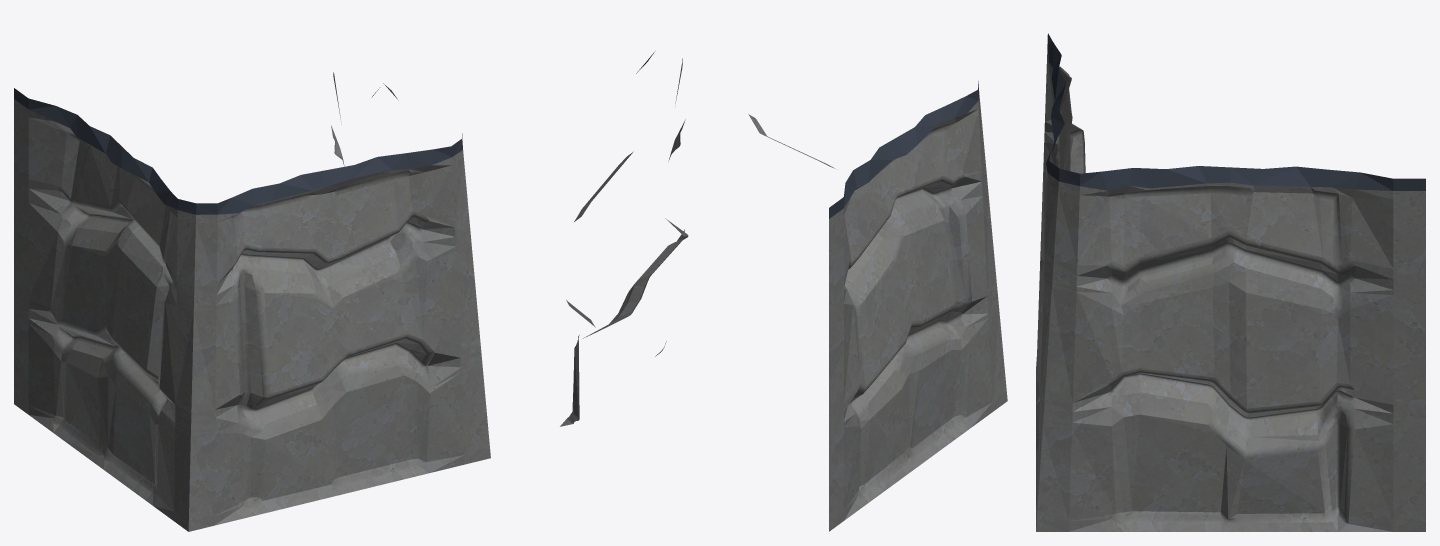
File: cliff_wall_end_a.glb
3 views of the same model, side by side, from view 1: azimuth 30°, elevation 25°; view 2: azimuth 150°, elevation 25°; view 3: azimuth 270°, elevation 25° (orthographic). The views are drawn at different scales.
Visible parts, largest first — view 1: CliffWall_end_a_Body.001; view 2: CliffWall_end_a_Body.001; view 3: CliffWall_end_a_Body.001.
Part boxes in pixels (left/top/right/bottom): CliffWall_end_a_Body.001: left=14, top=72, right=490, bottom=531; CliffWall_end_a_Body.001: left=560, top=52, right=1007, bottom=531; CliffWall_end_a_Body.001: left=1036, top=33, right=1425, bottom=531.
Size of the model in its own units: 1 by 1 by 1.
7 materials, 3 textured.
